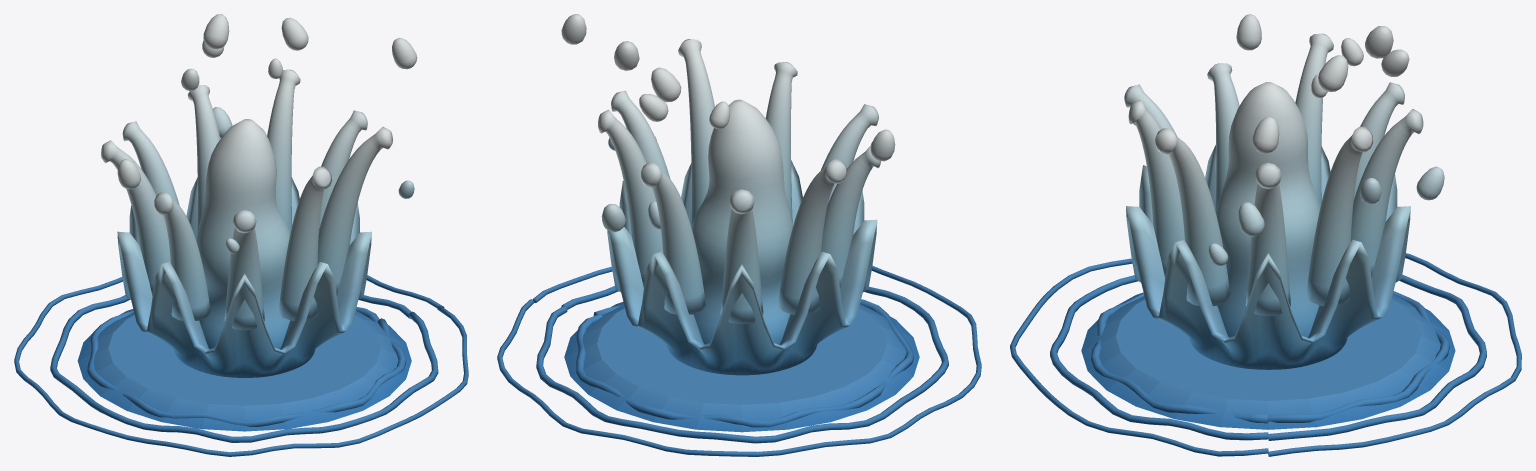
The model's file is EL_water_splash.glb.
The picture shows the model from 3 angles, left to right: view 1: azimuth 30°, elevation 25°; view 2: azimuth 150°, elevation 25°; view 3: azimuth 270°, elevation 25°; orthographic projection. The views are drawn at different scales.
Parts seen in each view (by area): view 1: EL_water_splash; view 2: EL_water_splash; view 3: EL_water_splash.
Boxes of the visible parts, <box> form: EL_water_splash: <box>14,14,468,456</box>; EL_water_splash: <box>497,14,981,456</box>; EL_water_splash: <box>1010,14,1521,456</box>.
Size of the model in its own units: 5.2 by 3.81 by 5.2.
